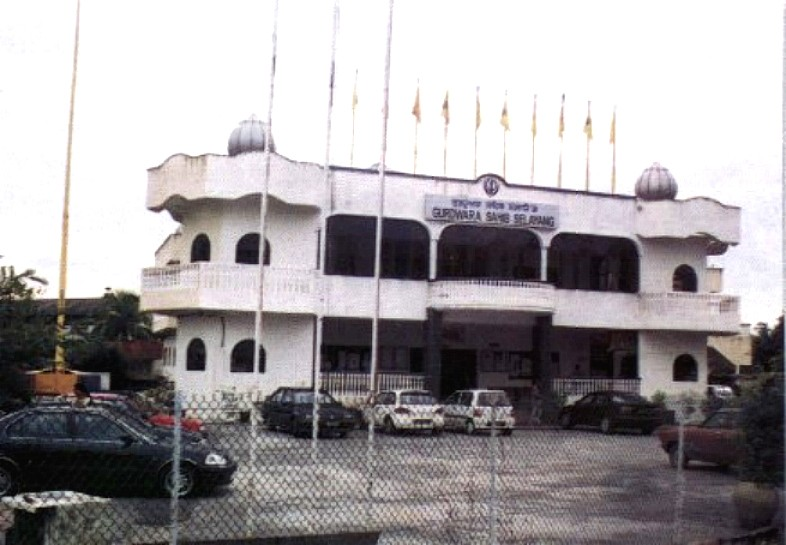Gurdwara: (129, 102, 743, 425)
